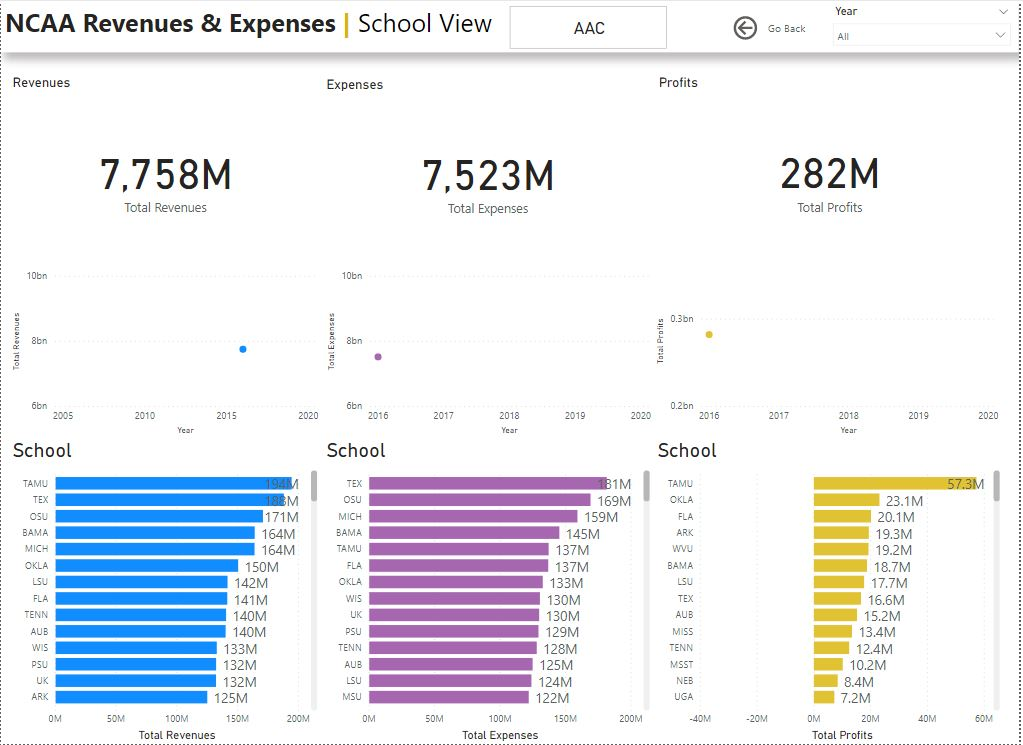

Layout of this report page (visuals, bound fields, positions):
{"tool":"powerbi","page":{"name":"School View","canvas":[1300,950],"ordinal":1},"visuals":[{"type":"card","title":"Revenues","fields":{"Values":["Sum(finances_fact.Total Revenues)"]},"box":[9.6,94.2,400.8,242.7],"z":0},{"type":"card","title":"Expenses","fields":{"Values":["Sum(finances_fact.Total Expenses)"]},"box":[410.3,95.8,423.1,241.1],"z":1000},{"type":"card","title":"Profits","fields":{"Values":["finances_fact.Total Profits"]},"box":[835,94.2,447.1,241.1],"z":2000},{"type":"areaChart","fields":{"Category":["finances_fact.Year"],"Y":["Sum(finances_fact.Total Revenues)"]},"box":[9.6,336.9,400.8,221.9],"z":3000},{"type":"areaChart","fields":{"Category":["finances_fact.Year"],"Y":["Sum(finances_fact.Total Expenses)"]},"box":[411.9,336.9,423.1,221.9],"z":4000},{"type":"areaChart","fields":{"Category":["finances_fact.Year"],"Y":["finances_fact.Total Profits"]},"box":[831.8,336.9,447.1,221.9],"z":5000},{"type":"barChart","title":"School","fields":{"Category":["school_dim.School Abb","conference_dim.Conference Abb"],"Y":["Sum(finances_fact.Total Revenues)"]},"box":[9.6,558.8,399.2,391.2],"z":6000},{"type":"barChart","title":"School","fields":{"Category":["school_dim.School Abb"],"Y":["Sum(finances_fact.Total Expenses)"]},"box":[410.3,558.8,423.1,391.2],"z":7000},{"type":"barChart","title":"School","fields":{"Y":["finances_fact.Total Profits"],"Category":["school_dim.School Abb"]},"box":[833.4,558.8,447.1,391.2],"z":8000},{"type":"textbox","box":[0,0,1299.7,65.5],"z":9000},{"type":"slicer","fields":{"Values":["finances_fact.Year"]},"box":[1052.2,0,247.5,65.5],"z":10000},{"type":"actionButton","box":[930.8,14.4,100.6,39.9],"z":10001},{"type":"card","fields":{"Values":["Min(conference_dim.Conference Abb)"]},"box":[649.8,6.4,201.2,54.3],"z":10002}]}

Visuals, with their boxes in screenshot pixels (x1, y1, x2, y2), scaled from the page's 1300x950 canvas onto the 1023x745 screenshot:
"Revenues" card: <region>8, 74, 323, 264</region>
"Expenses" card: <region>323, 75, 656, 264</region>
"Profits" card: <region>657, 74, 1009, 263</region>
areaChart - finances_fact.Year x Sum(finances_fact.Total Revenues): <region>8, 264, 323, 438</region>
areaChart - finances_fact.Year x Sum(finances_fact.Total Expenses): <region>324, 264, 657, 438</region>
areaChart - finances_fact.Year x finances_fact.Total Profits: <region>655, 264, 1006, 438</region>
"School" barChart: <region>8, 438, 322, 744</region>
"School" barChart: <region>323, 438, 656, 744</region>
"School" barChart: <region>656, 438, 1008, 744</region>
textbox: <region>0, 0, 1022, 51</region>
slicer - finances_fact.Year: <region>828, 0, 1022, 51</region>
actionButton: <region>732, 11, 812, 43</region>
card - Min(conference_dim.Conference Abb): <region>511, 5, 670, 48</region>
